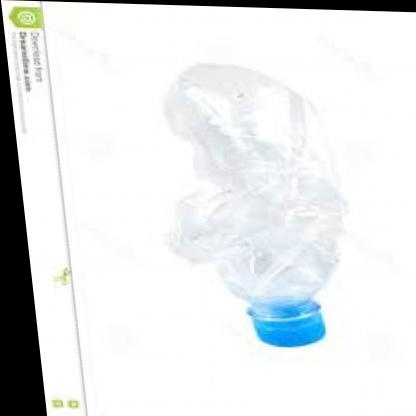trash: (166, 64, 342, 345), (248, 298, 324, 346)
